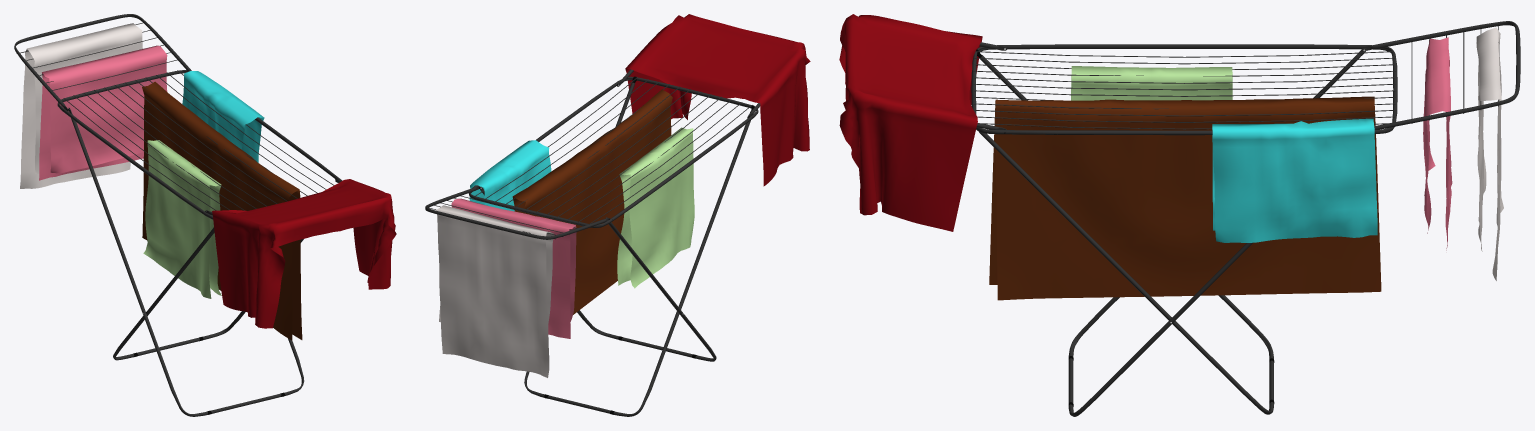
Rendered from clothesline.glb.
3 views of the same model, side by side, from view 1: azimuth 30°, elevation 25°; view 2: azimuth 150°, elevation 25°; view 3: azimuth 270°, elevation 25° (orthographic). The views are drawn at different scales.
Visible parts, largest first — view 1: red_blanket, Pink_towel, Brown_blanket, Yellow_towel, White_towel, Dryer, Laundry_Blue_towel, base1, Wings, base2; view 2: White_towel, red_blanket, Brown_blanket, Yellow_towel, Dryer, Pink_towel, Laundry_Blue_towel, base2, Wings, base1; view 3: Brown_blanket, red_blanket, Laundry_Blue_towel, Dryer, Yellow_towel, White_towel, Pink_towel, base2, Wings, base1.
Boxes of the visible parts, x1,y1,x2,y2 form: red_blanket: (212,179,396,328); Pink_towel: (39,45,167,180); Brown_blanket: (142,81,302,340); Yellow_towel: (143,140,221,298); White_towel: (20,23,142,188); Dryer: (57,70,342,219); Laundry_Blue_towel: (182,71,264,162); base1: (68,108,304,416); Wings: (14,14,341,215); base2: (113,227,303,360); White_towel: (436,205,553,377); red_blanket: (625,14,810,186); Brown_blanket: (512,89,672,314); Yellow_towel: (617,127,694,288); Dryer: (468,76,758,227); Pink_towel: (451,198,576,338); Laundry_Blue_towel: (469,140,551,211); base2: (524,82,752,416); Wings: (425,69,760,239); base1: (479,186,716,361); Brown_blanket: (989,96,1381,300); red_blanket: (839,14,982,231); Laundry_Blue_towel: (1212,118,1377,242); Dryer: (971,44,1397,135); Yellow_towel: (1071,66,1232,100); White_towel: (1476,27,1503,280); Pink_towel: (1423,37,1452,250); base2: (979,55,1273,414); Wings: (976,21,1520,129); base1: (1068,48,1366,416).
Bounding box in the file's own units: 0.66 × 1.13 × 2.09.
